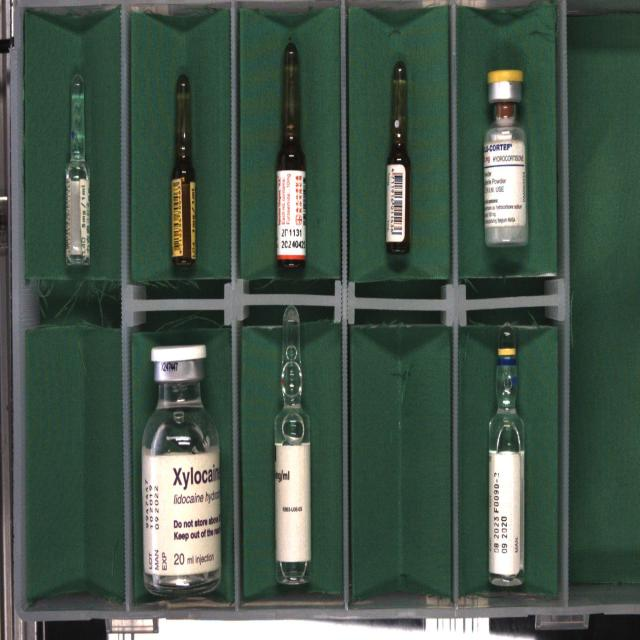Vials: (142, 345, 221, 596), (483, 69, 528, 247)
